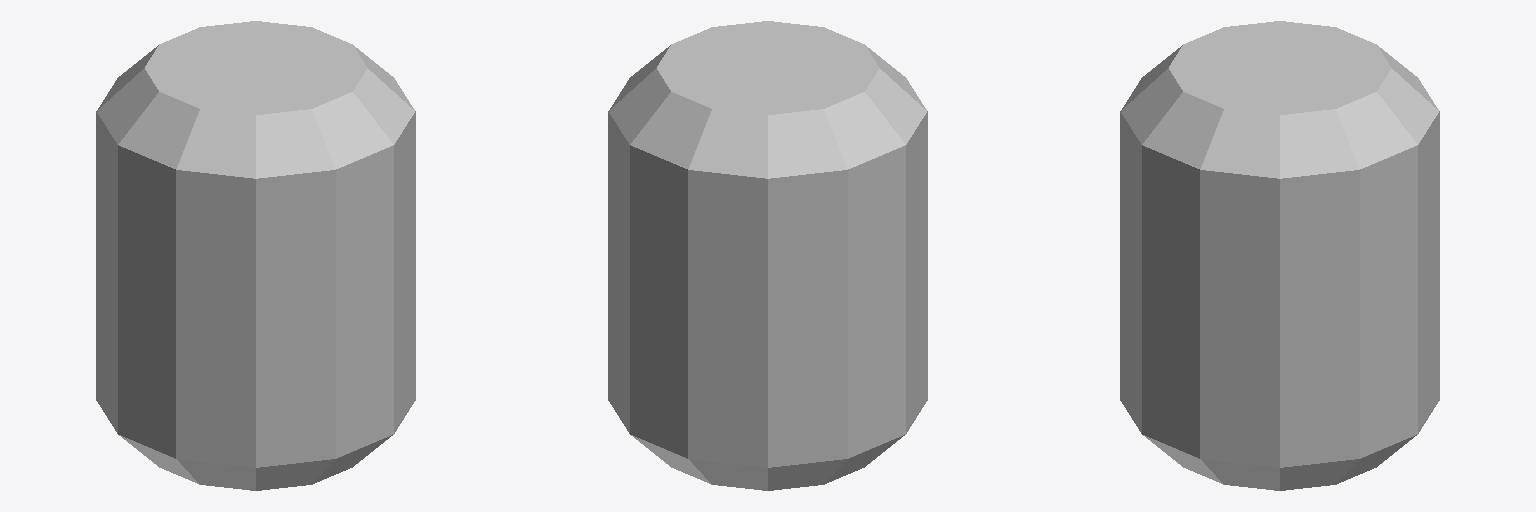
The model's file is station_core.obj.
The picture shows the model from 3 angles: view 1: azimuth 30°, elevation 25°; view 2: azimuth 150°, elevation 25°; view 3: azimuth 270°, elevation 25°; orthographic projection.
Parts seen in each view (by area): view 1: Cylinder_Cylinder.001; view 2: Cylinder_Cylinder.001; view 3: Cylinder_Cylinder.001.
Part boxes in pixels (bbox=[...]): Cylinder_Cylinder.001: bbox=[96, 21, 415, 490]; Cylinder_Cylinder.001: bbox=[608, 21, 927, 490]; Cylinder_Cylinder.001: bbox=[1120, 21, 1439, 490].
Bounding box in the file's own units: 2 × 2.6 × 2.